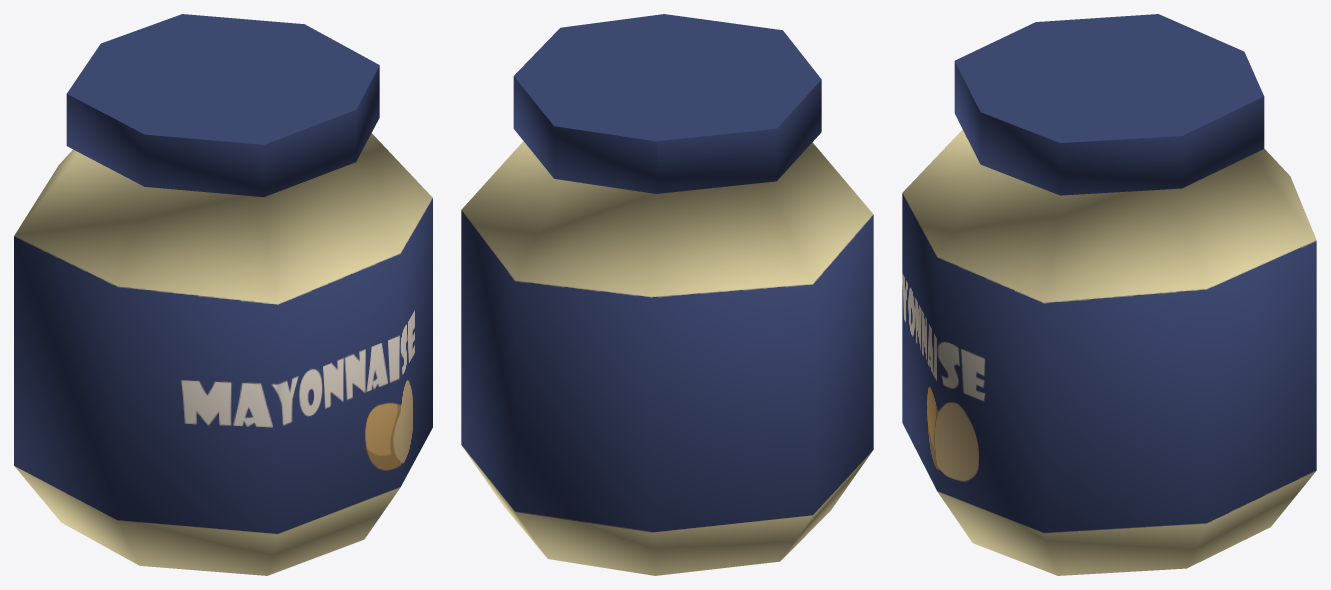
Rendered from Mayo.fbx.
3 renders of one model, left to right at view 1: azimuth 30°, elevation 25°; view 2: azimuth 150°, elevation 25°; view 3: azimuth 270°, elevation 25°, orthographic.
Visible parts, largest first — view 1: mayo; view 2: mayo; view 3: mayo.
Boxes of the visible parts, x1,y1,x2,y2 form: mayo: (14, 14, 432, 575); mayo: (461, 14, 873, 575); mayo: (902, 14, 1316, 575).
Bounding box in the file's own units: 35.51 × 42.75 × 35.99.
1 material, 1 textured.
